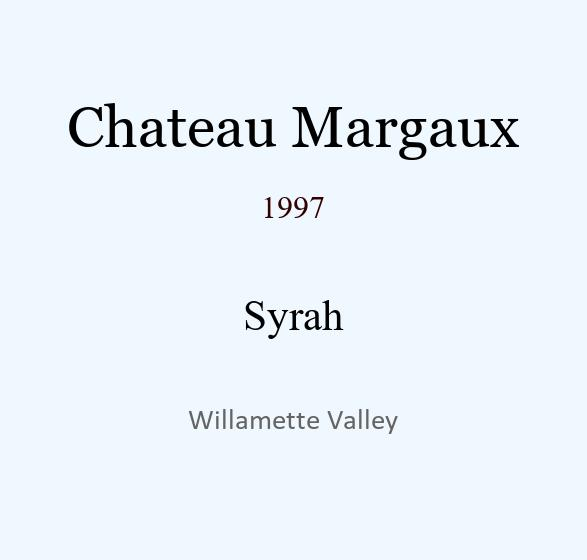brand: (67, 93, 519, 150)
region: (188, 407, 398, 432)
variety: (243, 291, 344, 330)
vintage: (261, 189, 325, 210)
